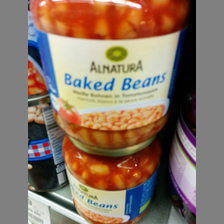beans: (30, 1, 180, 146), (56, 135, 167, 224)
